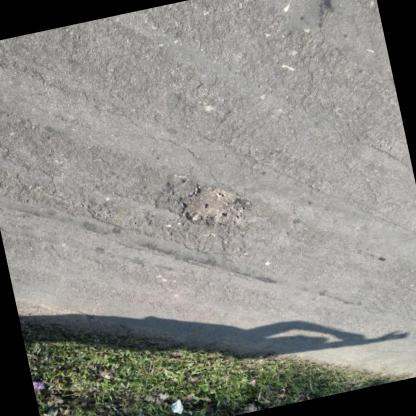pothole: (175, 177, 248, 235)
